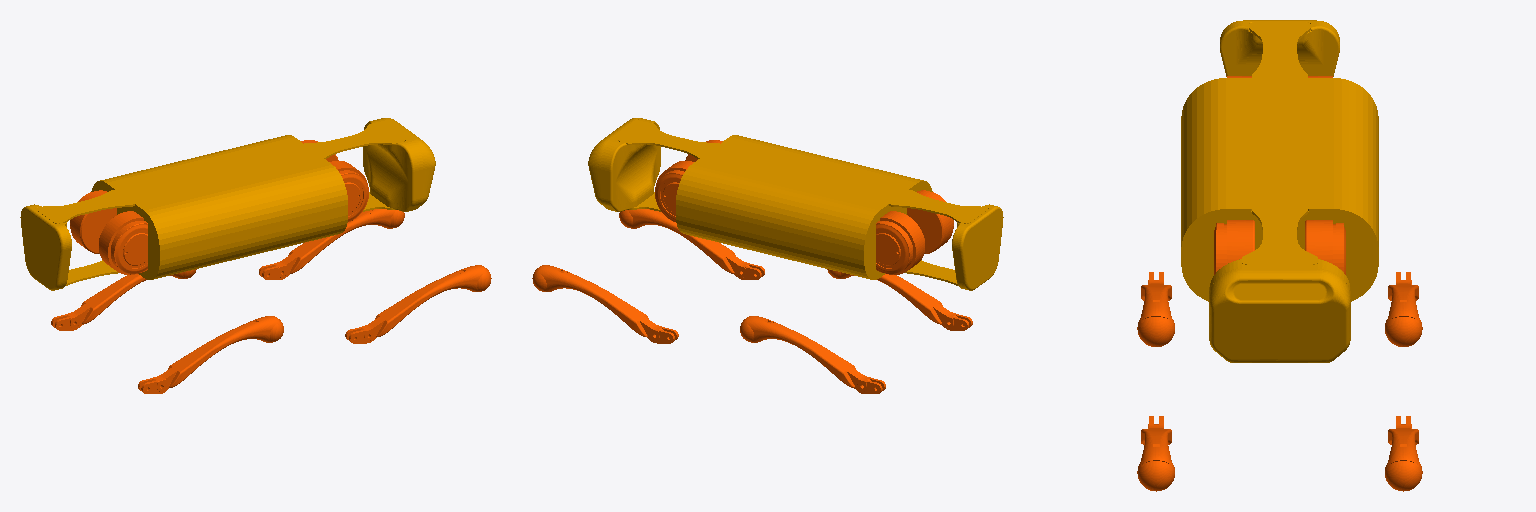
--- Facts derived from the render (not from the file) ---
Views: 3 orthographic renders of the robot side by side, from view 1: azimuth 30°, elevation 25°; view 2: azimuth 150°, elevation 25°; view 3: azimuth 270°, elevation 25°.
Robot: robot — 18 links, 17 joints (12 revolute, 5 fixed); root link base; default pose: all joints at 0 but 4 set to mid-range because 0 is outside their limits (RF_KFE = -1.81, LF_KFE = -1.81, RH_KFE = -1.81, LH_KFE = -1.81).
Visible links, largest first — view 1: base, RF_calf, RH_calf, RH_hip, LF_calf, LH_calf, LH_hip, RF_hip; view 2: base, LF_calf, LH_calf, LH_hip, RF_calf, RH_calf, RH_hip, LF_hip; view 3: base, RF_calf, LF_calf, RH_calf, LH_calf, RF_hip, LF_hip.
Link boxes in pixels (x1,y1,x2,y2): base: [20, 118, 435, 290]; RF_calf: [345, 265, 491, 343]; RH_calf: [138, 316, 283, 393]; RH_hip: [99, 211, 147, 274]; LF_calf: [259, 209, 404, 279]; LH_calf: [51, 269, 196, 330]; LH_hip: [70, 190, 116, 253]; RF_hip: [330, 161, 368, 221]; base: [588, 118, 1003, 290]; LF_calf: [532, 265, 678, 343]; LH_calf: [740, 316, 885, 393]; LH_hip: [876, 211, 924, 274]; RF_calf: [619, 209, 764, 279]; RH_calf: [827, 269, 972, 330]; RH_hip: [907, 190, 953, 253]; LF_hip: [655, 161, 693, 221]; base: [1181, 20, 1378, 362]; RF_calf: [1137, 416, 1174, 491]; LF_calf: [1385, 416, 1422, 491]; RH_calf: [1137, 272, 1174, 346]; LH_calf: [1385, 272, 1422, 346]; RF_hip: [1214, 220, 1254, 274]; LF_hip: [1305, 220, 1345, 274].
Bounding box of the posed robot: 0.706 × 0.3016 × 0.268 m (x, y, z).
Meshes: 5 distinct files referenced, 9 mesh visuals loaded (3 Collada DAE); not drawn: 4 (reference not matched to a file when rendering).

robot.urdf — robot:
<?xml version="1.0" ?>
<!-- =================================================================================== -->
<!-- |    This document was autogenerated by xacro from ./robot.xacro                  | -->
<!-- |    EDITING THIS FILE BY HAND IS NOT RECOMMENDED                                 | -->
<!-- =================================================================================== -->
<robot name="robot">
  <material name="black">
    <color rgba="0.0 0.0 0.0 1.0"/>
  </material>
  <material name="blue">
    <color rgba="0.0 0.0 0.8 1.0"/>
  </material>
  <material name="green">
    <color rgba="0.0 0.8 0.0 1.0"/>
  </material>
  <material name="grey">
    <color rgba="0.2 0.2 0.2 1.0"/>
  </material>
  <material name="silver">
    <color rgba="0.9137254901960784 0.9137254901960784 0.8470588235294118 1.0"/>
  </material>
  <material name="orange">
    <color rgba="1.0 0.4235294117647059 0.0392156862745098 1.0"/>
  </material>
  <material name="brown">
    <color rgba="0.8705882352941177 0.8117647058823529 0.7647058823529411 1.0"/>
  </material>
  <material name="red">
    <color rgba="0.8 0.0 0.0 1.0"/>
  </material>
  <material name="white">
    <color rgba="1.0 1.0 1.0 1.0"/>
  </material>
  <!-- ros_control plugin -->
  <gazebo>
    <plugin filename="liblegged_hw_sim.so" name="gazebo_ros_control">
      <robotNamespace>/</robotNamespace>
      <robotParam>legged_robot_description</robotParam>
      <robotSimType>legged_gazebo/LeggedHWSim</robotSimType>
    </plugin>
  </gazebo>
  <gazebo>
    <plugin filename="libgazebo_ros_p3d.so" name="p3d_base_controller">
      <alwaysOn>true</alwaysOn>
      <updateRate>1000.0</updateRate>
      <bodyName>base</bodyName>
      <topicName>ground_truth/state</topicName>
      <gaussianNoise>0</gaussianNoise>
      <frameName>world</frameName>
      <xyzOffsets>0 0 0</xyzOffsets>
      <rpyOffsets>0 0 0</rpyOffsets>
    </plugin>
  </gazebo>
  <gazebo reference="base_link">
    <maxVel>100.</maxVel>
    <kp>10000.</kp>
    <kd>0.</kd>
  </gazebo>
  <gazebo reference="stick_link">
    <mu1>0.2</mu1>
    <mu2>0.2</mu2>
    <material>Gazebo/White</material>
  </gazebo>
  <!-- LF leg -->
  <gazebo reference="LF_hip">
    <mu1>0.2</mu1>
    <mu2>0.2</mu2>
    <material>Gazebo/DarkGrey</material>
  </gazebo>
  <gazebo reference="LF_thigh">
    <mu1>0.2</mu1>
    <mu2>0.2</mu2>
    <self_collide>1</self_collide>
    <material>Gazebo/DarkGrey</material>
    <kp value="1000000.0"/>
    <kd value="1.0"/>
  </gazebo>
  <gazebo reference="LF_calf">
    <mu1>0.2</mu1>
    <mu2>0.2</mu2>
    <self_collide>1</self_collide>
  </gazebo>
  <gazebo reference="LF_FOOT">
    <mu1>0.6</mu1>
    <mu2>0.6</mu2>
    <self_collide>1</self_collide>
    <material>Gazebo/DarkGrey</material>
    <kp value="1000000.0"/>
    <kd value="100.0"/>
  </gazebo>
  <!-- RF leg -->
  <gazebo reference="RF_hip">
    <mu1>0.2</mu1>
    <mu2>0.2</mu2>
    <material>Gazebo/DarkGrey</material>
  </gazebo>
  <gazebo reference="RF_thigh">
    <mu1>0.2</mu1>
    <mu2>0.2</mu2>
    <self_collide>1</self_collide>
    <material>Gazebo/DarkGrey</material>
    <kp value="1000000.0"/>
    <kd value="1.0"/>
  </gazebo>
  <gazebo reference="RF_calf">
    <mu1>0.2</mu1>
    <mu2>0.2</mu2>
    <self_collide>1</self_collide>
  </gazebo>
  <gazebo reference="RF_FOOT">
    <mu1>0.6</mu1>
    <mu2>0.6</mu2>
    <self_collide>1</self_collide>
    <material>Gazebo/DarkGrey</material>
    <kp value="1000000.0"/>
    <kd value="1.0"/>
  </gazebo>
  <!-- LH leg -->
  <gazebo reference="LH_hip">
    <mu1>0.2</mu1>
    <mu2>0.2</mu2>
    <material>Gazebo/DarkGrey</material>
  </gazebo>
  <gazebo reference="LH_thigh">
    <mu1>0.2</mu1>
    <mu2>0.2</mu2>
    <self_collide>1</self_collide>
    <material>Gazebo/DarkGrey</material>
    <kp value="1000000.0"/>
    <kd value="1.0"/>
  </gazebo>
  <gazebo reference="LH_calf">
    <mu1>0.2</mu1>
    <mu2>0.2</mu2>
    <self_collide>1</self_collide>
  </gazebo>
  <gazebo reference="LH_FOOT">
    <mu1>0.6</mu1>
    <mu2>0.6</mu2>
    <self_collide>1</self_collide>
    <material>Gazebo/DarkGrey</material>
    <kp value="1000000.0"/>
    <kd value="1.0"/>
  </gazebo>
  <!-- RH leg -->
  <gazebo reference="RH_hip">
    <mu1>0.2</mu1>
    <mu2>0.2</mu2>
    <material>Gazebo/DarkGrey</material>
  </gazebo>
  <gazebo reference="RH_thigh">
    <mu1>0.2</mu1>
    <mu2>0.2</mu2>
    <self_collide>1</self_collide>
    <material>Gazebo/DarkGrey</material>
    <kp value="1000000.0"/>
    <kd value="1.0"/>
  </gazebo>
  <gazebo reference="RH_calf">
    <mu1>0.2</mu1>
    <mu2>0.2</mu2>
    <self_collide>1</self_collide>
  </gazebo>
  <gazebo reference="RH_FOOT">
    <mu1>0.6</mu1>
    <mu2>0.6</mu2>
    <self_collide>1</self_collide>
    <material>Gazebo/DarkGrey</material>
    <kp value="1000000.0"/>
    <kd value="1.0"/>
  </gazebo>
  <link name="base">
    <visual>
      <origin rpy="0 0 0" xyz="0 0 0"/>
      <geometry>
        <mesh filename="package://legged_unitree_description/meshes/a1/trunk.dae" scale="1 1 1"/>
      </geometry>
    </visual>
    <collision>
      <origin rpy="0 0 0" xyz="0 0 0"/>
      <geometry>
        <box size="0.267 0.194 0.114"/>
      </geometry>
    </collision>
    <inertial>
      <origin rpy="0 0 0" xyz="0.0 0.0041 -0.0005"/>
      <mass value="6.0"/>
      <inertia ixx="0.0158533" ixy="-3.66e-05" ixz="-6.11e-05" iyy="0.0377999" iyz="-2.75e-05" izz="0.0456542"/>
    </inertial>
  </link>
  <!-- Imu is fixed to the base link -->
  <joint name="unitree_imu_joint" type="fixed">
    <origin rpy="0. 0. 0." xyz="0. 0. 0."/>
    <parent link="base"/>
    <child link="unitree_imu"/>
  </joint>
  <!-- Imu link -->
  <link name="unitree_imu">
    <inertial>
      <mass value="0.01"/>
      <origin rpy="0 0 0" xyz="0 0 0"/>
      <inertia ixx="0.000001" ixy="0" ixz="0" iyy="0.000001" iyz="0" izz="0.000001"/>
    </inertial>
    <visual>
      <origin rpy="0 0 0" xyz="0 0 0"/>
      <geometry>
        <box size="0.015 0.015 0.004"/>
      </geometry>
    </visual>
    <material name="orange">
      <color rgba="255 108 10 255"/>
    </material>
  </link>
  <gazebo reference="unitree_imu">
    <material>Gazebo/Orange</material>
  </gazebo>
  <gazebo reference="unitree_imu_joint">
    <disableFixedJointLumping>true</disableFixedJointLumping>
  </gazebo>
  <joint name="RF_HAA" type="revolute">
    <origin rpy="0 0 0" xyz="0.1805 -0.047 0"/>
    <parent link="base"/>
    <child link="RF_hip"/>
    <axis xyz="1 0 0"/>
    <dynamics damping="0" friction="0"/>
    <limit effort="33.5" lower="-0.8028514559173915" upper="0.8028514559173915" velocity="21"/>
  </joint>
  <link name="RF_hip">
    <visual>
      <origin rpy="3.141592653589793 0 0" xyz="0 0 0"/>
      <geometry>
        <mesh filename="package://legged_unitree_description/meshes/a1/hip.dae" scale="1 1 1"/>
      </geometry>
      <material name="orange"/>
    </visual>
    <collision>
      <origin rpy="1.5707963267948966 0 0" xyz="0 0 0"/>
      <geometry>
        <cylinder length="0.04" radius="0.046"/>
      </geometry>
    </collision>
    <inertial>
      <origin rpy="0 0 0" xyz="-0.003875 -0.001622 4.2e-05"/>
      <mass value="0.595"/>
      <inertia ixx="0.000402747" ixy="8.709e-06" ixz="-2.97e-07" iyy="0.000691123" iyz="5.45e-07" izz="0.000487919"/>
    </inertial>
  </link>
  <joint name="RF_HFE" type="revolute">
    <origin rpy="0 0 0" xyz="0 -0.0838 0"/>
    <parent link="RF_hip"/>
    <child link="RF_thigh"/>
    <axis xyz="0 1 0"/>
    <dynamics damping="0" friction="0"/>
    <limit effort="33.5" lower="-1.0471975511965976" upper="4.1887902047863905" velocity="21"/>
  </joint>
  <link name="RF_thigh">
    <visual>
      <origin rpy="0 0 0" xyz="0 0 0"/>
      <geometry>
        <mesh filename="package://legged_unitree_description/meshes/a1/thigh_mirror.dae" scale="1 1 1"/>
      </geometry>
      <material name="orange"/>
    </visual>
    <collision>
      <origin rpy="0 1.6707963267948966 0" xyz="-0.015 0 -0.1"/>
      <geometry>
        <box size="0.2 0.03 0.034"/>
      </geometry>
    </collision>
    <collision>
      <origin rpy="1.5707963267948966 0 0" xyz="0 0.008 0"/>
      <geometry>
        <cylinder length="0.04" radius="0.041"/>
      </geometry>
    </collision>
    <inertial>
      <origin rpy="0 0 0" xyz="-0.003574 0.019529 -0.030323"/>
      <mass value="0.888"/>
      <inertia ixx="0.005251806" ixy="2.168e-06" ixz="0.000346889" iyy="0.005000475" iyz="2.8174e-05" izz="0.0011102"/>
    </inertial>
  </link>
  <joint name="RF_KFE" type="revolute">
    <origin rpy="0 0 0" xyz="0 0 -0.2"/>
    <parent link="RF_thigh"/>
    <child link="RF_calf"/>
    <axis xyz="0 1 0"/>
    <dynamics damping="0" friction="0"/>
    <limit effort="33.5" lower="-2.6965336943312392" upper="-0.9162978572970231" velocity="21"/>
  </joint>
  <link name="RF_calf">
    <visual>
      <origin rpy="0 0 0" xyz="0 0 0"/>
      <geometry>
        <mesh filename="package://legged_unitree_description/meshes/a1/calf.dae" scale="1 1 1"/>
      </geometry>
      <material name="orange"/>
    </visual>
    <collision>
      <origin rpy="0 1.5707963267948966 0" xyz="0 0 -0.1"/>
      <geometry>
        <box size="0.2 0.016 0.016"/>
      </geometry>
    </collision>
    <inertial>
      <origin rpy="0 0 0" xyz="0.007105 -0.000239 -0.096933"/>
      <mass value="0.151"/>
      <inertia ixx="0.002344758" ixy="0.0" ixz="-0.000141275" iyy="0.002360755" iyz="0.0" izz="3.1158e-05"/>
    </inertial>
  </link>
  <joint name="RF_foot_fixed" type="fixed">
    <origin rpy="0 0 0" xyz="0 0 -0.2"/>
    <parent link="RF_calf"/>
    <child link="RF_FOOT"/>
  </joint>
  <link name="RF_FOOT">
    <visual>
      <origin rpy="0 0 0" xyz="0 0 0"/>
      <geometry>
        <sphere radius="0.01"/>
      </geometry>
      <material name="orange"/>
    </visual>
    <collision>
      <origin rpy="0 0 0" xyz="0 0 0"/>
      <geometry>
        <sphere radius="0.02"/>
      </geometry>
    </collision>
    <inertial>
      <mass value="0.06"/>
      <inertia ixx="9.600000000000001e-06" ixy="0.0" ixz="0.0" iyy="9.600000000000001e-06" iyz="0.0" izz="9.600000000000001e-06"/>
    </inertial>
  </link>
  <gazebo reference="RF_foot_fixed">
    <disableFixedJointLumping>true</disableFixedJointLumping>
  </gazebo>
  <transmission name="RF_HAA_tran">
    <type>transmission_interface/SimpleTransmission</type>
    <joint name="RF_HAA">
      <hardwareInterface>hardware_interface/EffortJointInterface</hardwareInterface>
    </joint>
    <actuator name="RF_HAA_motor">
      <hardwareInterface>hardware_interface/EffortJointInterface</hardwareInterface>
      <mechanicalReduction>1</mechanicalReduction>
    </actuator>
  </transmission>
  <transmission name="RF_HFE_tran">
    <type>transmission_interface/SimpleTransmission</type>
    <joint name="RF_HFE">
      <hardwareInterface>hardware_interface/EffortJointInterface</hardwareInterface>
    </joint>
    <actuator name="RF_HFE_motor">
      <hardwareInterface>hardware_interface/EffortJointInterface</hardwareInterface>
      <mechanicalReduction>1</mechanicalReduction>
    </actuator>
  </transmission>
  <transmission name="RF_KFE_tran">
    <type>transmission_interface/SimpleTransmission</type>
    <joint name="RF_KFE">
      <hardwareInterface>hardware_interface/EffortJointInterface</hardwareInterface>
    </joint>
    <actuator name="RF_KFE_motor">
      <hardwareInterface>hardware_interface/EffortJointInterface</hardwareInterface>
      <mechanicalReduction>1</mechanicalReduction>
    </actuator>
  </transmission>
  <joint name="LF_HAA" type="revolute">
    <origin rpy="0 0 0" xyz="0.1805 0.047 0"/>
    <parent link="base"/>
    <child link="LF_hip"/>
    <axis xyz="1 0 0"/>
    <dynamics damping="0" friction="0"/>
    <limit effort="33.5" lower="-0.8028514559173915" upper="0.8028514559173915" velocity="21"/>
  </joint>
  <link name="LF_hip">
    <visual>
      <origin rpy="0 0 0" xyz="0 0 0"/>
      <geometry>
        <mesh filename="package://legged_unitree_description/meshes/a1/hip.dae" scale="1 1 1"/>
      </geometry>
      <material name="orange"/>
    </visual>
    <collision>
      <origin rpy="1.5707963267948966 0 0" xyz="0 0 0"/>
      <geometry>
        <cylinder length="0.04" radius="0.046"/>
      </geometry>
    </collision>
    <inertial>
      <origin rpy="0 0 0" xyz="-0.003875 0.001622 4.2e-05"/>
      <mass value="0.595"/>
      <inertia ixx="0.000402747" ixy="-8.709e-06" ixz="-2.97e-07" iyy="0.000691123" iyz="-5.45e-07" izz="0.000487919"/>
    </inertial>
  </link>
  <joint name="LF_HFE" type="revolute">
    <origin rpy="0 0 0" xyz="0 0.0838 0"/>
    <parent link="LF_hip"/>
    <child link="LF_thigh"/>
    <axis xyz="0 1 0"/>
    <dynamics damping="0" friction="0"/>
    <limit effort="33.5" lower="-1.0471975511965976" upper="4.1887902047863905" velocity="21"/>
  </joint>
  <link name="LF_thigh">
    <visual>
      <origin rpy="0 0 0" xyz="0 0 0"/>
      <geometry>
        <mesh filename="package://legged_unitree_description/meshes/a1/thigh.dae" scale="1 1 1"/>
      </geometry>
      <material name="orange"/>
    </visual>
    <collision>
      <origin rpy="0 1.6707963267948966 0" xyz="-0.015 0 -0.1"/>
      <geometry>
        <box size="0.2 0.03 0.034"/>
      </geometry>
    </collision>
    <collision>
      <origin rpy="1.5707963267948966 0 0" xyz="0 -0.008 0"/>
      <geometry>
        <cylinder length="0.04" radius="0.041"/>
      </geometry>
    </collision>
    <inertial>
      <origin rpy="0 0 0" xyz="-0.003574 -0.019529 -0.030323"/>
      <mass value="0.888"/>
      <inertia ixx="0.005251806" ixy="-2.168e-06" ixz="0.000346889" iyy="0.005000475" iyz="-2.8174e-05" izz="0.0011102"/>
    </inertial>
  </link>
  <joint name="LF_KFE" type="revolute">
    <origin rpy="0 0 0" xyz="0 0 -0.2"/>
    <parent link="LF_thigh"/>
    <child link="LF_calf"/>
    <axis xyz="0 1 0"/>
    <dynamics damping="0" friction="0"/>
    <limit effort="33.5" lower="-2.6965336943312392" upper="-0.9162978572970231" velocity="21"/>
  </joint>
  <link name="LF_calf">
    <visual>
      <origin rpy="0 0 0" xyz="0 0 0"/>
      <geometry>
        <mesh filename="package://legged_unitree_description/meshes/a1/calf.dae" scale="1 1 1"/>
      </geometry>
      <material name="orange"/>
    </visual>
    <collision>
      <origin rpy="0 1.5707963267948966 0" xyz="0 0 -0.1"/>
      <geometry>
        <box size="0.2 0.016 0.016"/>
      </geometry>
    </collision>
    <inertial>
      <origin rpy="0 0 0" xyz="0.007105 -0.000239 -0.096933"/>
      <mass value="0.151"/>
      <inertia ixx="0.002344758" ixy="0.0" ixz="-0.000141275" iyy="0.002360755" iyz="0.0" izz="3.1158e-05"/>
    </inertial>
  </link>
  <joint name="LF_foot_fixed" type="fixed">
    <origin rpy="0 0 0" xyz="0 0 -0.2"/>
    <parent link="LF_calf"/>
    <child link="LF_FOOT"/>
  </joint>
  <link name="LF_FOOT">
    <visual>
      <origin rpy="0 0 0" xyz="0 0 0"/>
      <geometry>
        <sphere radius="0.01"/>
      </geometry>
      <material name="orange"/>
    </visual>
    <collision>
      <origin rpy="0 0 0" xyz="0 0 0"/>
      <geometry>
        <sphere radius="0.02"/>
      </geometry>
    </collision>
    <inertial>
      <mass value="0.06"/>
      <inertia ixx="9.600000000000001e-06" ixy="0.0" ixz="0.0" iyy="9.600000000000001e-06" iyz="0.0" izz="9.600000000000001e-06"/>
    </inertial>
  </link>
  <gazebo reference="LF_foot_fixed">
    <disableFixedJointLumping>true</disableFixedJointLumping>
  </gazebo>
  <transmission name="LF_HAA_tran">
    <type>transmission_interface/SimpleTransmission</type>
    <joint name="LF_HAA">
      <hardwareInterface>hardware_interface/EffortJointInterface</hardwareInterface>
    </joint>
    <actuator name="LF_HAA_motor">
      <hardwareInterface>hardware_interface/EffortJointInterface</hardwareInterface>
      <mechanicalReduction>1</mechanicalReduction>
    </actuator>
  </transmission>
  <transmission name="LF_HFE_tran">
    <type>transmission_interface/SimpleTransmission</type>
    <joint name="LF_HFE">
      <hardwareInterface>hardware_interface/EffortJointInterface</hardwareInterface>
    </joint>
    <actuator name="LF_HFE_motor">
      <hardwareInterface>hardware_interface/EffortJointInterface</hardwareInterface>
      <mechanicalReduction>1</mechanicalReduction>
    </actuator>
  </transmission>
  <transmission name="LF_KFE_tran">
    <type>transmission_interface/SimpleTransmission</type>
    <joint name="LF_KFE">
      <hardwareInterface>hardware_interface/EffortJointInterface</hardwareInterface>
    </joint>
    <actuator name="LF_KFE_motor">
      <hardwareInterface>hardware_interface/EffortJointInterface</hardwareInterface>
      <mechanicalReduction>1</mechanicalReduction>
    </actuator>
  </transmission>
  <joint name="RH_HAA" type="revolute">
    <origin rpy="0 0 0" xyz="-0.1805 -0.047 0"/>
    <parent link="base"/>
    <child link="RH_hip"/>
    <axis xyz="1 0 0"/>
    <dynamics damping="0" friction="0"/>
    <limit effort="33.5" lower="-0.8028514559173915" upper="0.8028514559173915" velocity="21"/>
  </joint>
  <link name="RH_hip">
    <visual>
      <origin rpy="3.141592653589793 3.141592653589793 0" xyz="0 0 0"/>
      <geometry>
        <mesh filename="package://legged_unitree_description/meshes/a1/hip.dae" scale="1 1 1"/>
      </geometry>
      <material name="orange"/>
    </visual>
    <collision>
      <origin rpy="1.5707963267948966 0 0" xyz="0 0 0"/>
      <geometry>
        <cylinder length="0.04" radius="0.046"/>
      </geometry>
    </collision>
    <inertial>
      <origin rpy="0 0 0" xyz="0.003875 -0.001622 4.2e-05"/>
      <mass value="0.595"/>
      <inertia ixx="0.000402747" ixy="-8.709e-06" ixz="2.97e-07" iyy="0.000691123" iyz="5.45e-07" izz="0.000487919"/>
    </inertial>
  </link>
  <joint name="RH_HFE" type="revolute">
    <origin rpy="0 0 0" xyz="0 -0.0838 0"/>
    <parent link="RH_hip"/>
    <child link="RH_thigh"/>
    <axis xyz="0 1 0"/>
    <dynamics damping="0" friction="0"/>
    <limit effort="33.5" lower="-1.0471975511965976" upper="4.1887902047863905" velocity="21"/>
  </joint>
  <link name="RH_thigh">
    <visual>
      <origin rpy="0 0 0" xyz="0 0 0"/>
      <geometry>
        <mesh filename="package://legged_unitree_description/meshes/a1/thigh_mirror.dae" scale="1 1 1"/>
      </geometry>
      <material name="orange"/>
    </visual>
    <collision>
      <origin rpy="0 1.6707963267948966 0" xyz="-0.015 0 -0.1"/>
      <geometry>
        <box size="0.2 0.03 0.034"/>
      </geometry>
    </collision>
    <collision>
      <origin rpy="1.5707963267948966 0 0" xyz="0 0.008 0"/>
      <geometry>
        <cylinder length="0.04" radius="0.041"/>
      </geometry>
    </collision>
    <inertial>
      <origin rpy="0 0 0" xyz="-0.003574 0.019529 -0.030323"/>
      <mass value="0.888"/>
      <inertia ixx="0.005251806" ixy="2.168e-06" ixz="0.000346889" iyy="0.005000475" iyz="2.8174e-05" izz="0.0011102"/>
    </inertial>
  </link>
  <joint name="RH_KFE" type="revolute">
    <origin rpy="0 0 0" xyz="0 0 -0.2"/>
    <parent link="RH_thigh"/>
    <child link="RH_calf"/>
    <axis xyz="0 1 0"/>
    <dynamics damping="0" friction="0"/>
    <limit effort="33.5" lower="-2.6965336943312392" upper="-0.9162978572970231" velocity="21"/>
  </joint>
  <link name="RH_calf">
    <visual>
      <origin rpy="0 0 0" xyz="0 0 0"/>
      <geometry>
        <mesh filename="package://legged_unitree_description/meshes/a1/calf.dae" scale="1 1 1"/>
      </geometry>
      <material name="orange"/>
    </visual>
    <collision>
      <origin rpy="0 1.5707963267948966 0" xyz="0 0 -0.1"/>
      <geometry>
        <box size="0.2 0.016 0.016"/>
      </geometry>
    </collision>
    <inertial>
      <origin rpy="0 0 0" xyz="0.007105 -0.000239 -0.096933"/>
      <mass value="0.151"/>
      <inertia ixx="0.002344758" ixy="0.0" ixz="-0.000141275" iyy="0.002360755" iyz="0.0" izz="3.1158e-05"/>
    </inertial>
  </link>
  <joint name="RH_foot_fixed" type="fixed">
    <origin rpy="0 0 0" xyz="0 0 -0.2"/>
    <parent link="RH_calf"/>
    <child link="RH_FOOT"/>
  </joint>
  <link name="RH_FOOT">
    <visual>
      <origin rpy="0 0 0" xyz="0 0 0"/>
      <geometry>
        <sphere radius="0.01"/>
      </geometry>
      <material name="orange"/>
    </visual>
    <collision>
      <origin rpy="0 0 0" xyz="0 0 0"/>
      <geometry>
        <sphere radius="0.02"/>
      </geometry>
    </collision>
    <inertial>
      <mass value="0.06"/>
      <inertia ixx="9.600000000000001e-06" ixy="0.0" ixz="0.0" iyy="9.600000000000001e-06" iyz="0.0" izz="9.600000000000001e-06"/>
    </inertial>
  </link>
  <gazebo reference="RH_foot_fixed">
    <disableFixedJointLumping>true</disableFixedJointLumping>
  </gazebo>
  <transmission name="RH_HAA_tran">
    <type>transmission_interface/SimpleTransmission</type>
    <joint name="RH_HAA">
      <hardwareInterface>hardware_interface/EffortJointInterface</hardwareInterface>
    </joint>
    <actuator name="RH_HAA_motor">
      <hardwareInterface>hardware_interface/EffortJointInterface</hardwareInterface>
      <mechanicalReduction>1</mechanicalReduction>
    </actuator>
  </transmission>
  <transmission name="RH_HFE_tran">
    <type>transmission_interface/SimpleTransmission</type>
    <joint name="RH_HFE">
      <hardwareInterface>hardware_interface/EffortJointInterface</hardwareInterface>
    </joint>
    <actuator name="RH_HFE_motor">
      <hardwareInterface>hardware_interface/EffortJointInterface</hardwareInterface>
      <mechanicalReduction>1</mechanicalReduction>
    </actuator>
  </transmission>
  <transmission name="RH_KFE_tran">
    <type>transmission_interface/SimpleTransmission</type>
    <joint name="RH_KFE">
      <hardwareInterface>hardware_interface/EffortJointInterface</hardwareInterface>
    </joint>
    <actuator name="RH_KFE_motor">
      <hardwareInterface>hardware_interface/EffortJointInterface</hardwareInterface>
      <mechanicalReduction>1</mechanicalReduction>
    </actuator>
  </transmission>
  <joint name="LH_HAA" type="revolute">
    <origin rpy="0 0 0" xyz="-0.1805 0.047 0"/>
    <parent link="base"/>
    <child link="LH_hip"/>
    <axis xyz="1 0 0"/>
    <dynamics damping="0" friction="0"/>
    <limit effort="33.5" lower="-0.8028514559173915" upper="0.8028514559173915" velocity="21"/>
  </joint>
  <link name="LH_hip">
    <visual>
      <origin rpy="0 3.141592653589793 0" xyz="0 0 0"/>
      <geometry>
        <mesh filename="package://legged_unitree_description/meshes/a1/hip.dae" scale="1 1 1"/>
      </geometry>
      <material name="orange"/>
    </visual>
    <collision>
      <origin rpy="1.5707963267948966 0 0" xyz="0 0 0"/>
      <geometry>
        <cylinder length="0.04" radius="0.046"/>
      </geometry>
    </collision>
    <inertial>
      <origin rpy="0 0 0" xyz="0.003875 0.001622 4.2e-05"/>
      <mass value="0.595"/>
      <inertia ixx="0.000402747" ixy="8.709e-06" ixz="2.97e-07" iyy="0.000691123" iyz="-5.45e-07" izz="0.000487919"/>
    </inertial>
  </link>
  <joint name="LH_HFE" type="revolute">
    <origin rpy="0 0 0" xyz="0 0.0838 0"/>
    <parent link="LH_hip"/>
    <child link="LH_thigh"/>
    <axis xyz="0 1 0"/>
    <dynamics damping="0" friction="0"/>
    <limit effort="33.5" lower="-1.0471975511965976" upper="4.1887902047863905" velocity="21"/>
  </joint>
  <link name="LH_thigh">
    <visual>
      <origin rpy="0 0 0" xyz="0 0 0"/>
      <geometry>
        <mesh filename="package://legged_unitree_description/meshes/a1/thigh.dae" scale="1 1 1"/>
      </geometry>
      <material name="orange"/>
    </visual>
    <collision>
      <origin rpy="0 1.6707963267948966 0" xyz="-0.015 0 -0.1"/>
      <geometry>
        <box size="0.2 0.03 0.034"/>
      </geometry>
    </collision>
    <collision>
      <origin rpy="1.5707963267948966 0 0" xyz="0 -0.008 0"/>
      <geometry>
        <cylinder length="0.04" radius="0.041"/>
      </geometry>
    </collision>
    <inertial>
      <origin rpy="0 0 0" xyz="-0.003574 -0.019529 -0.030323"/>
      <mass value="0.888"/>
      <inertia ixx="0.005251806" ixy="-2.168e-06" ixz="0.000346889" iyy="0.005000475" iyz="-2.8174e-05" izz="0.0011102"/>
    </inertial>
  </link>
  <joint name="LH_KFE" type="revolute">
    <origin rpy="0 0 0" xyz="0 0 -0.2"/>
    <parent link="LH_thigh"/>
    <child link="LH_calf"/>
    <axis xyz="0 1 0"/>
    <dynamics damping="0" friction="0"/>
    <limit effort="33.5" lower="-2.6965336943312392" upper="-0.9162978572970231" velocity="21"/>
  </joint>
  <link name="LH_calf">
    <visual>
      <origin rpy="0 0 0" xyz="0 0 0"/>
      <geometry>
        <mesh filename="package://legged_unitree_description/meshes/a1/calf.dae" scale="1 1 1"/>
      </geometry>
      <material name="orange"/>
    </visual>
    <collision>
      <origin rpy="0 1.5707963267948966 0" xyz="0 0 -0.1"/>
      <geometry>
        <box size="0.2 0.016 0.016"/>
      </geometry>
    </collision>
    <inertial>
      <origin rpy="0 0 0" xyz="0.007105 -0.000239 -0.096933"/>
      <mass value="0.151"/>
      <inertia ixx="0.002344758" ixy="0.0" ixz="-0.000141275" iyy="0.002360755" iyz="0.0" izz="3.1158e-05"/>
    </inertial>
  </link>
  <joint name="LH_foot_fixed" type="fixed">
    <origin rpy="0 0 0" xyz="0 0 -0.2"/>
    <parent link="LH_calf"/>
    <child link="LH_FOOT"/>
  </joint>
  <link name="LH_FOOT">
    <visual>
      <origin rpy="0 0 0" xyz="0 0 0"/>
      <geometry>
        <sphere radius="0.01"/>
      </geometry>
      <material name="orange"/>
    </visual>
    <collision>
      <origin rpy="0 0 0" xyz="0 0 0"/>
      <geometry>
        <sphere radius="0.02"/>
      </geometry>
    </collision>
    <inertial>
      <mass value="0.06"/>
      <inertia ixx="9.600000000000001e-06" ixy="0.0" ixz="0.0" iyy="9.600000000000001e-06" iyz="0.0" izz="9.600000000000001e-06"/>
    </inertial>
  </link>
  <gazebo reference="LH_foot_fixed">
    <disableFixedJointLumping>true</disableFixedJointLumping>
  </gazebo>
  <transmission name="LH_HAA_tran">
    <type>transmission_interface/SimpleTransmission</type>
    <joint name="LH_HAA">
      <hardwareInterface>hardware_interface/EffortJointInterface</hardwareInterface>
    </joint>
    <actuator name="LH_HAA_motor">
      <hardwareInterface>hardware_interface/EffortJointInterface</hardwareInterface>
      <mechanicalReduction>1</mechanicalReduction>
    </actuator>
  </transmission>
  <transmission name="LH_HFE_tran">
    <type>transmission_interface/SimpleTransmission</type>
    <joint name="LH_HFE">
      <hardwareInterface>hardware_interface/EffortJointInterface</hardwareInterface>
    </joint>
    <actuator name="LH_HFE_motor">
      <hardwareInterface>hardware_interface/EffortJointInterface</hardwareInterface>
      <mechanicalReduction>1</mechanicalReduction>
    </actuator>
  </transmission>
  <transmission name="LH_KFE_tran">
    <type>transmission_interface/SimpleTransmission</type>
    <joint name="LH_KFE">
      <hardwareInterface>hardware_interface/EffortJointInterface</hardwareInterface>
    </joint>
    <actuator name="LH_KFE_motor">
      <hardwareInterface>hardware_interface/EffortJointInterface</hardwareInterface>
      <mechanicalReduction>1</mechanicalReduction>
    </actuator>
  </transmission>
</robot>
